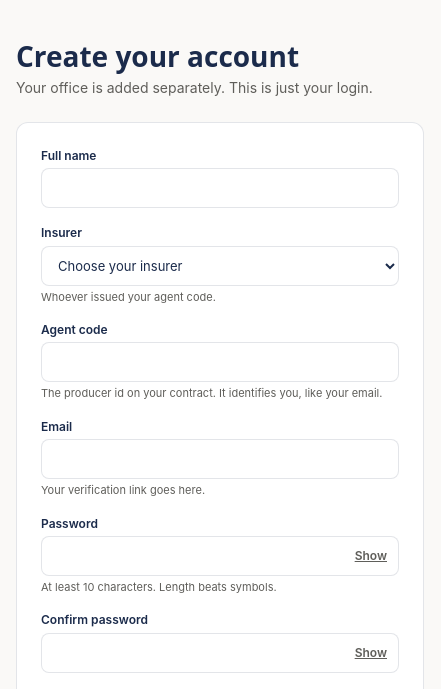
Scenario: register › confirms the same way whether or not the address is already taken
In the field labelled "Full name": point(220, 188) x1=41 y1=168 x2=399 y2=208, type "Rina Wijaya"
In the field labelled "Email": point(220, 459) x1=41 y1=439 x2=399 y2=479, type "rina@kpm0417.test"
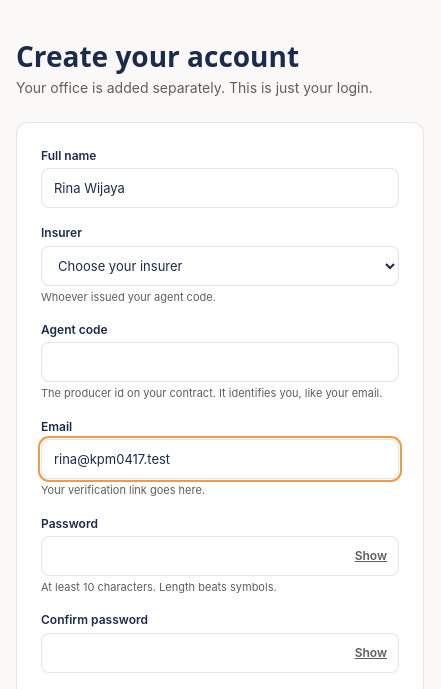
In the password field labelled "Password": point(220, 556) x1=41 y1=536 x2=399 y2=576, type "a long enough password"
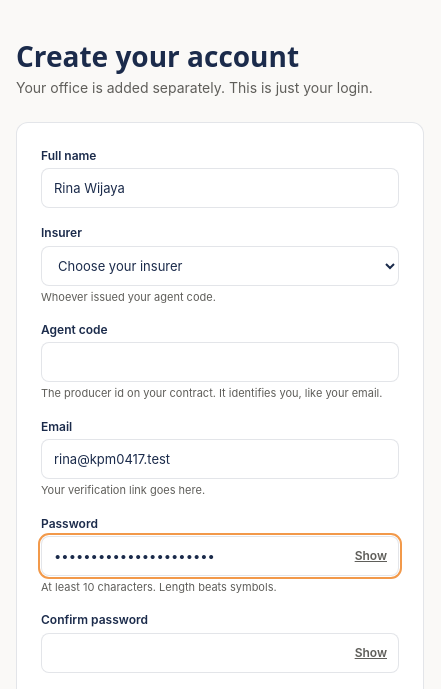
In the password field labelled "Confirm password": point(220, 653) x1=41 y1=633 x2=399 y2=673, type "a long enough password"
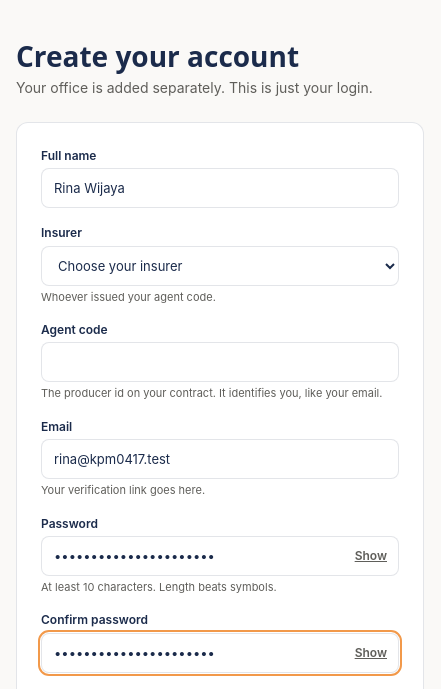
Select "Prudential" in the dropdown labelled "Insurer": point(220, 266) x1=41 y1=246 x2=399 y2=286
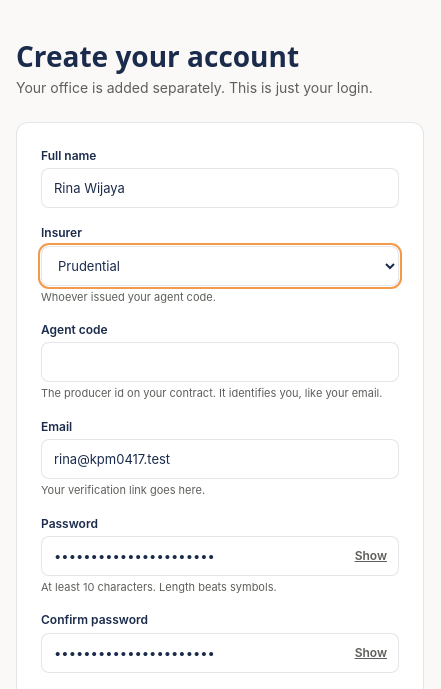
In the field labelled "Agent code": point(220, 362) x1=41 y1=342 x2=399 y2=382, type "PRU-88213"
(page scrolled)
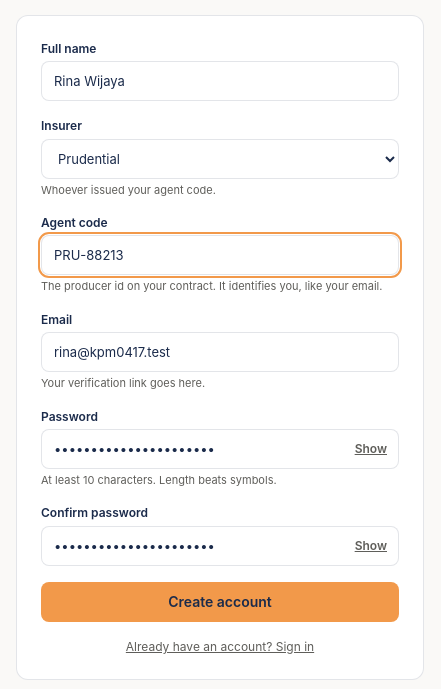
Click the button "Create account": point(220, 602) x1=41 y1=582 x2=399 y2=622
(page scrolled)
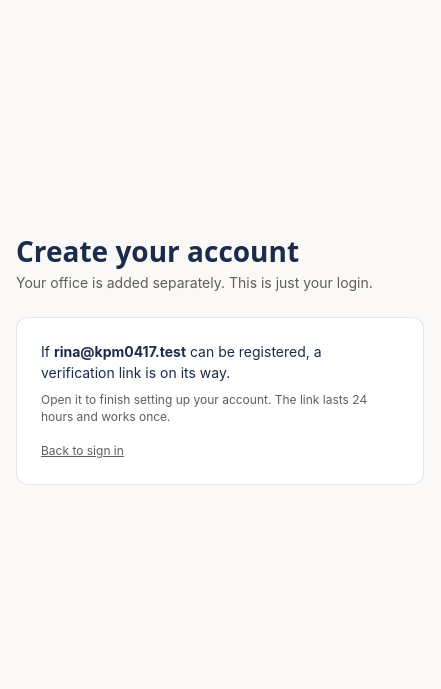
expect the text "verification link is on its way" reads "If rina@kpm0417.test can be registered, a verification link is on its way.": met, box x1=41 y1=343 x2=322 y2=381
